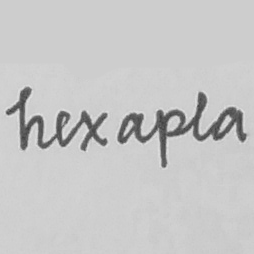a: (211, 105, 248, 144), (115, 110, 145, 146)
e: (52, 108, 73, 150)
h: (15, 85, 48, 152)
l: (188, 89, 209, 143)
p: (152, 107, 186, 169)
x: (77, 108, 110, 153)
